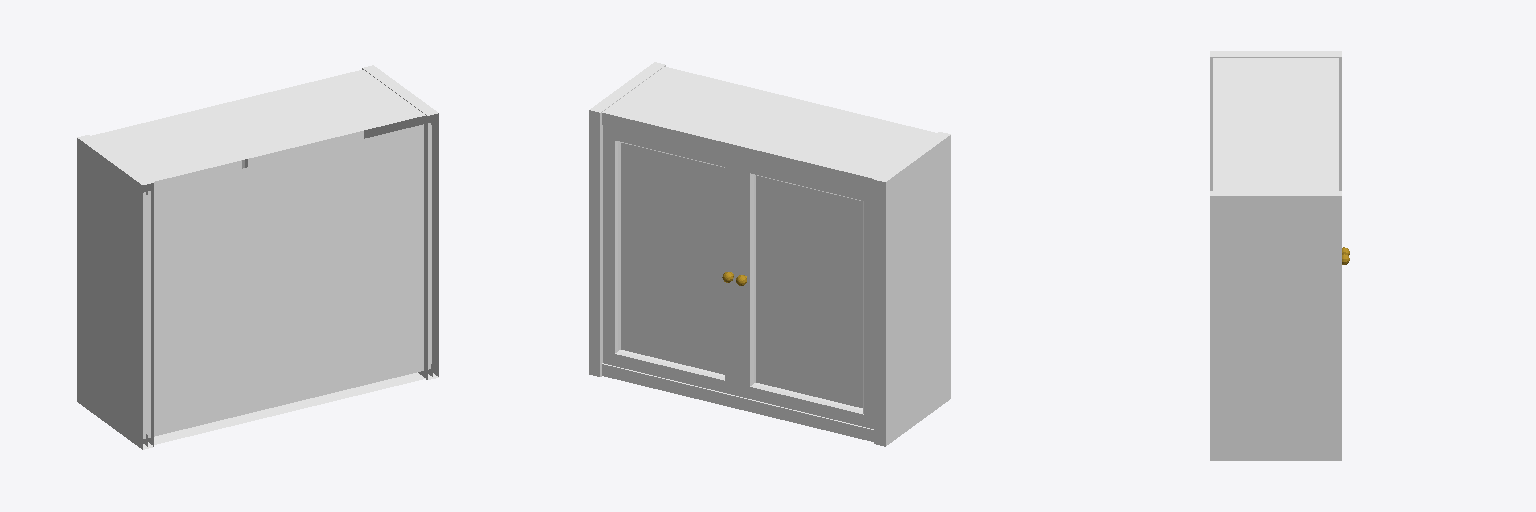
File: kitchenCabinet5.obj
The picture shows the model from 3 angles: view 1: azimuth 30°, elevation 25°; view 2: azimuth 150°, elevation 25°; view 3: azimuth 270°, elevation 25°; orthographic projection.
Parts seen in each view (by area): view 1: kitchenCabinet5; view 2: kitchenCabinet5; view 3: kitchenCabinet5.
Boxes of the visible parts, box(x1,y1,x2,y2) form: kitchenCabinet5: box(77, 65, 438, 449); kitchenCabinet5: box(589, 62, 950, 446); kitchenCabinet5: box(1210, 51, 1349, 460).
Bounding box in the file's own units: 0.8572 × 0.7305 × 0.3497.